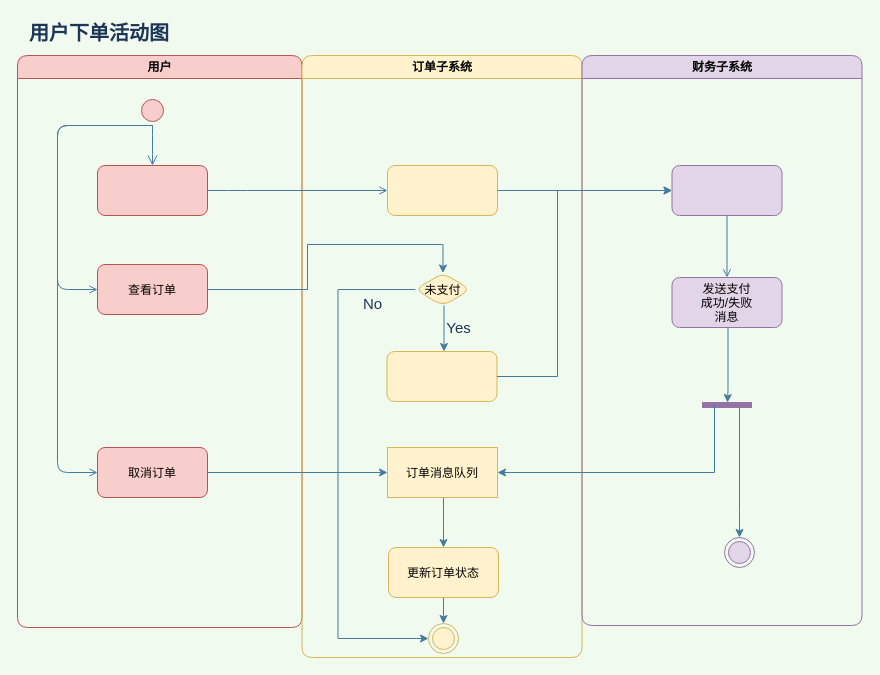
The diagram is 880 pixels wide and 675 high, and some of its shapes have lost their labels. Here are the shapes that lost their labels. From the top down, the centre of each, then its label:
the point at 152,190: 输入信息 下单
the point at 442,190: 创建订单
the point at 726,190: 处理支付
the point at 441,376: 支付
